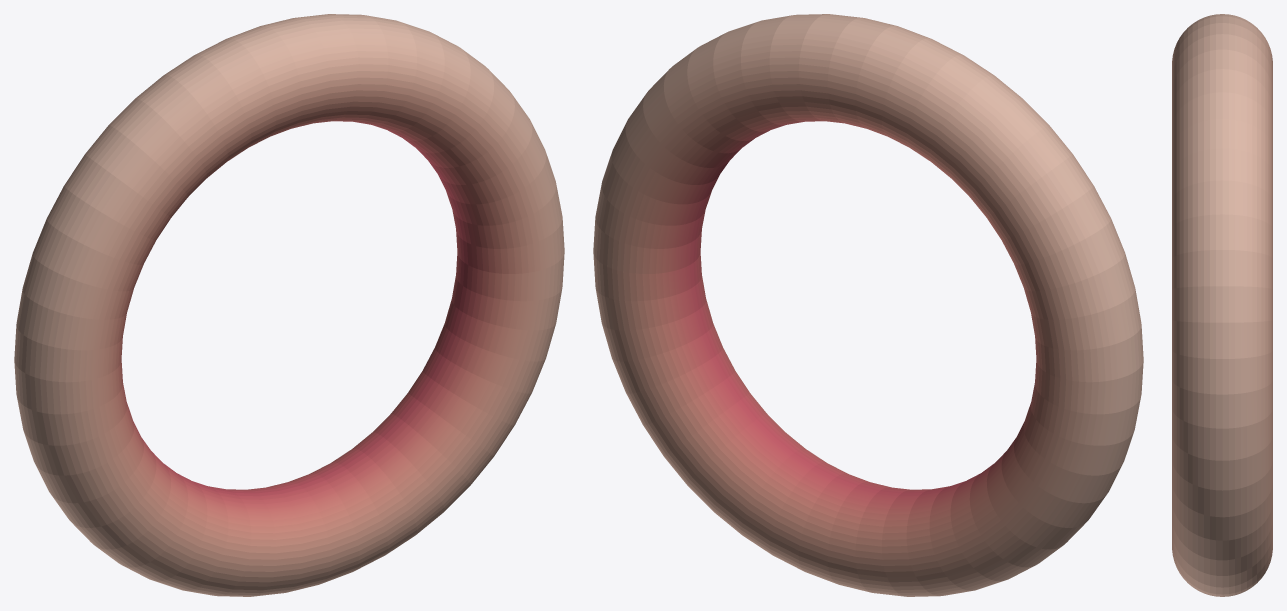
The picture shows the model from 3 angles, left to right: view 1: azimuth 30°, elevation 25°; view 2: azimuth 150°, elevation 25°; view 3: azimuth 270°, elevation 25°; orthographic projection. The views are drawn at different scales.
Visible parts, largest first — view 1: world; view 2: world; view 3: world.
Part boxes in pixels (x1,y1,x2,y2): world: (14, 14, 564, 596); world: (593, 14, 1143, 596); world: (1172, 14, 1272, 596).
Size of the model in its own units: 33.07 by 33 by 5.72.
